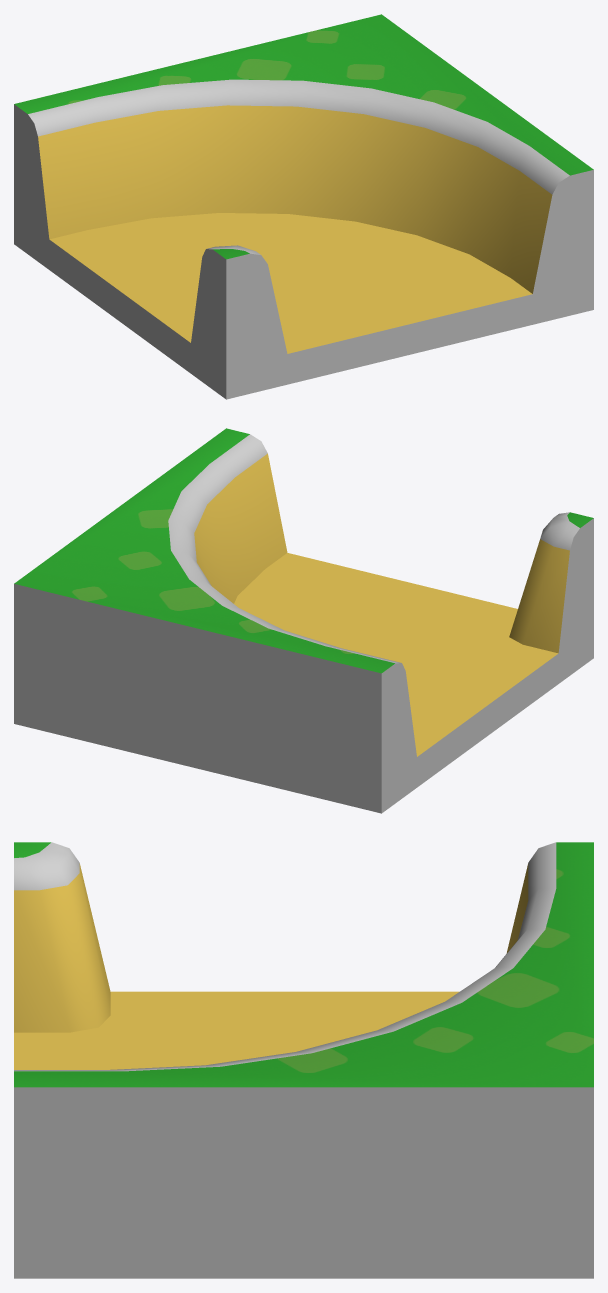
Rendered from RiverTile_3_1.fbx.
The picture shows the model from 3 angles, top to bottom: view 1: azimuth 30°, elevation 25°; view 2: azimuth 150°, elevation 25°; view 3: azimuth 270°, elevation 25°; orthographic projection. The views are drawn at different scales.
Parts seen in each view (by area): view 1: RiverTile_3_1; view 2: RiverTile_3_1; view 3: RiverTile_3_1.
Part boxes in pixels (x1,y1,x2,y2): RiverTile_3_1: (14, 14, 593, 399); RiverTile_3_1: (14, 428, 593, 813); RiverTile_3_1: (14, 842, 593, 1278).
Bounding box in the file's own units: 4 × 1.46 × 4.
